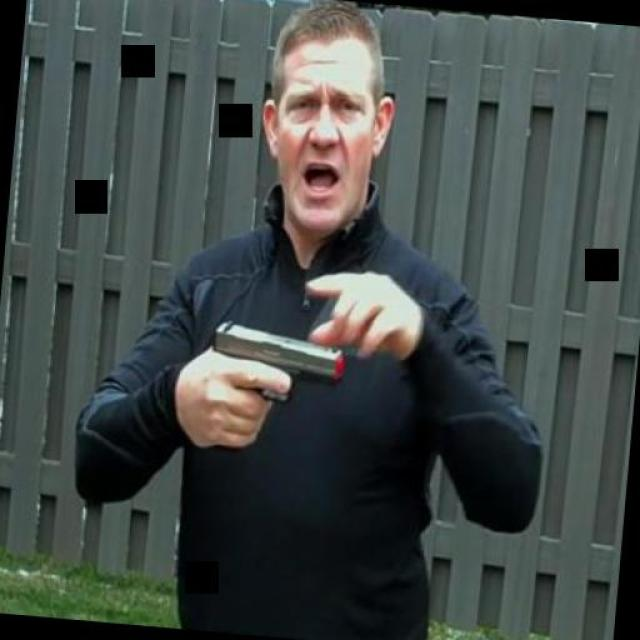gun: (196, 316, 350, 458)
